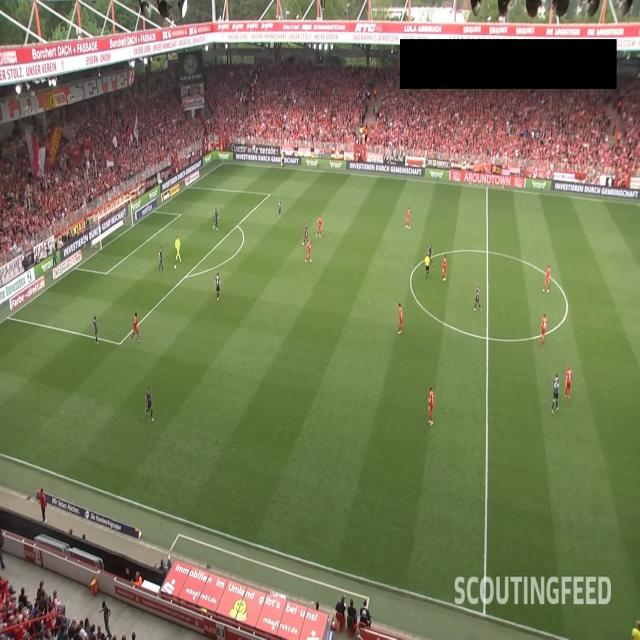ball: (173, 264, 177, 270)
